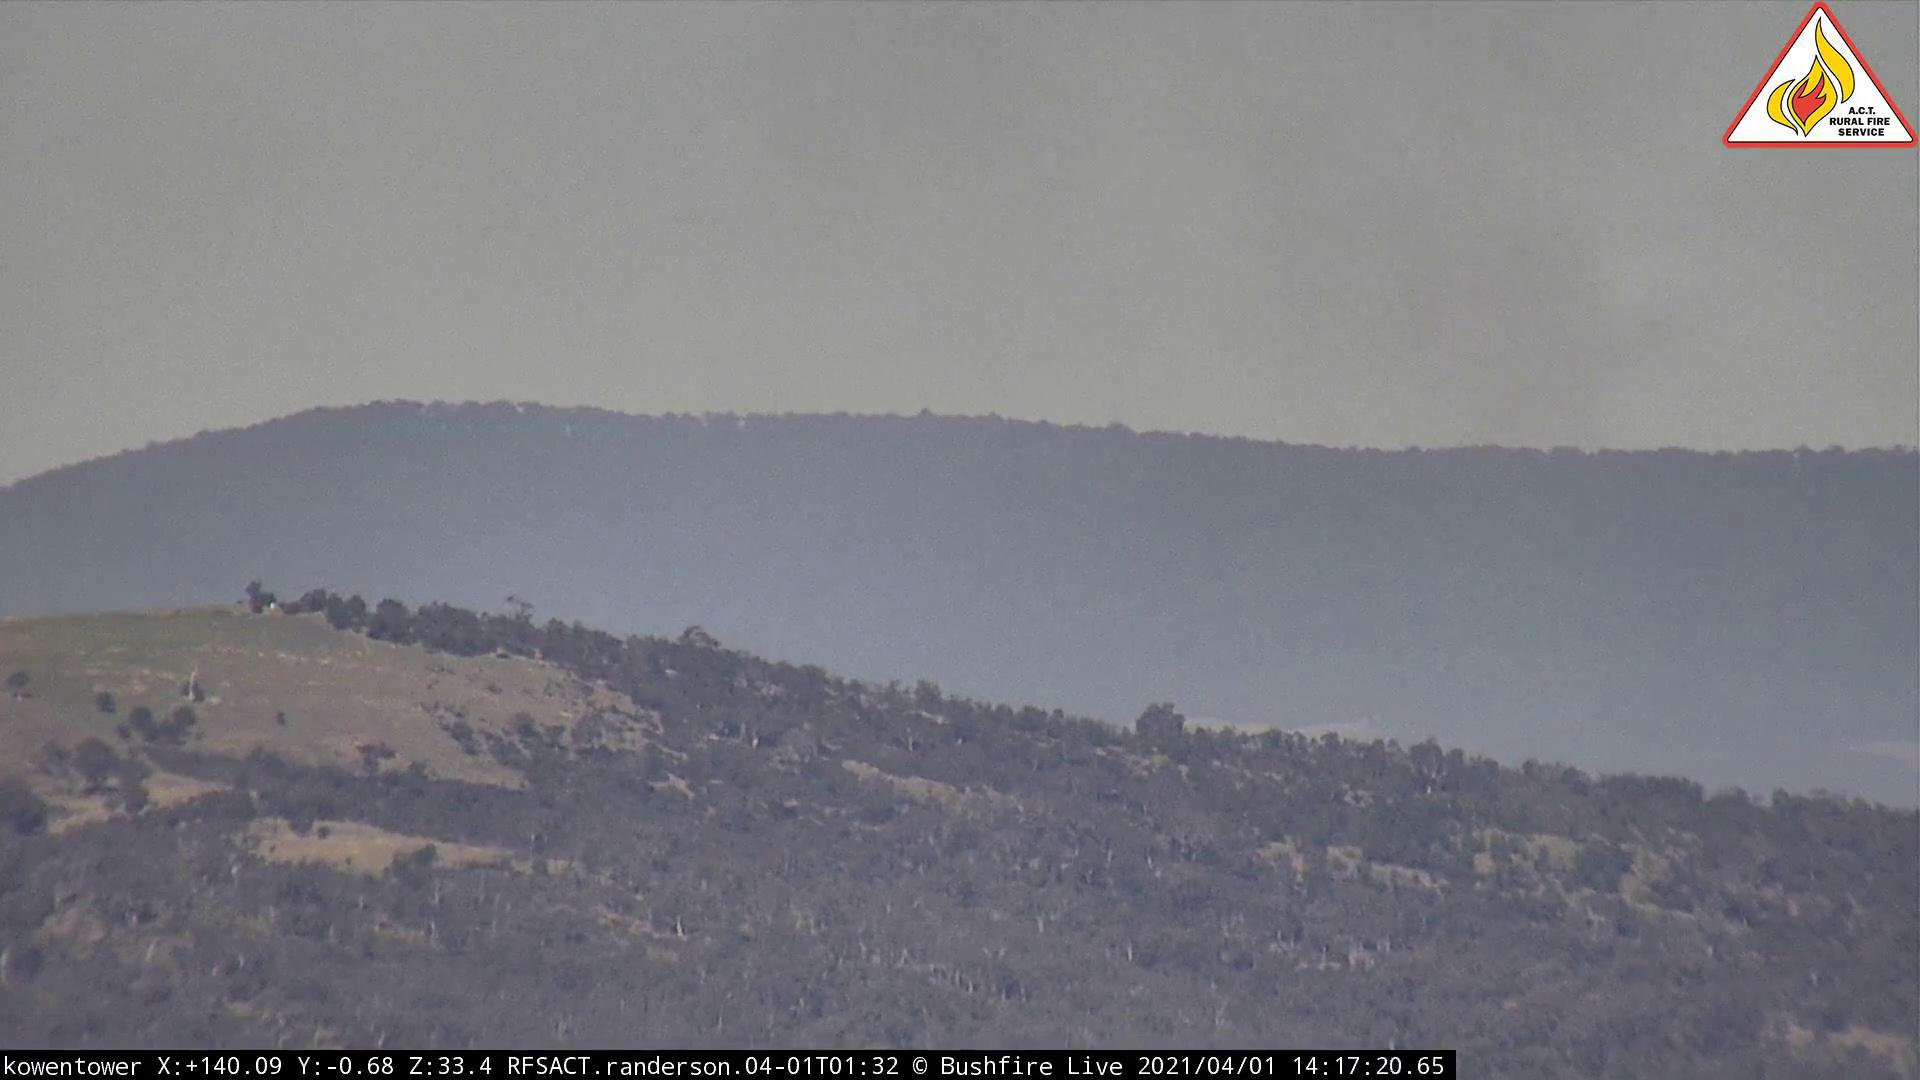Smoke: (1138, 24, 1706, 513)
